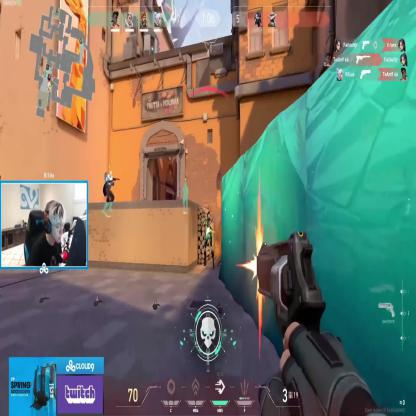enemy: (204, 212, 215, 266)
enemy_head: (207, 212, 211, 219)
